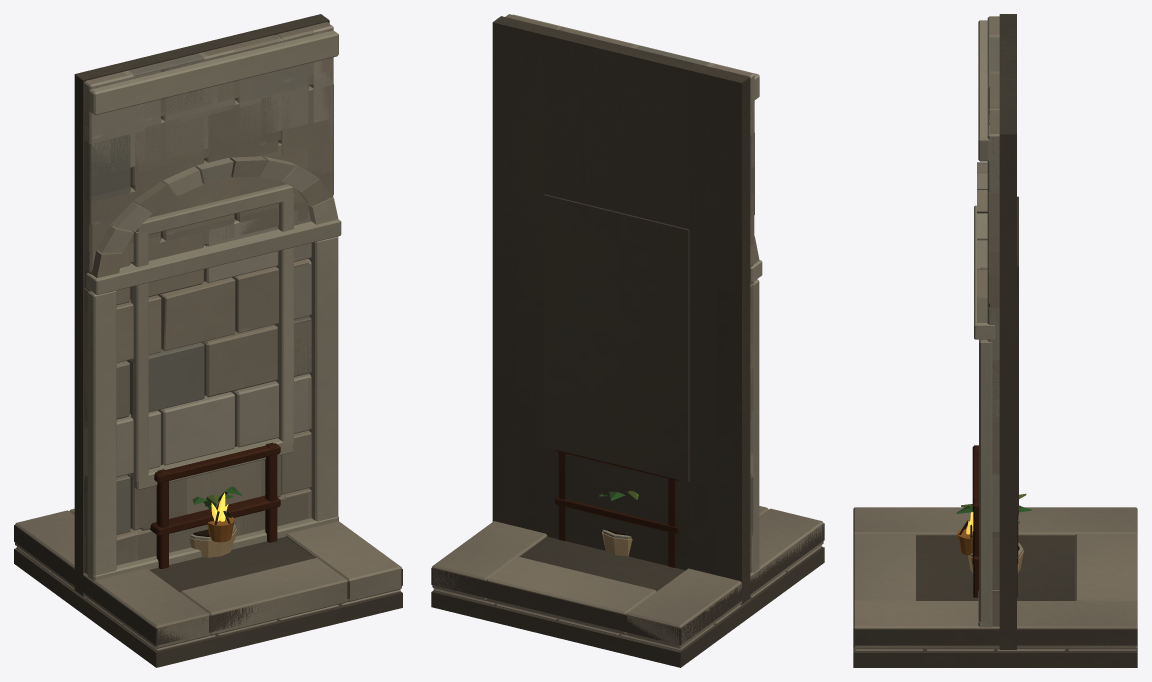
File: stone-dungeon-kit.glb
The picture shows the model from 3 angles, left to right: view 1: azimuth 30°, elevation 25°; view 2: azimuth 150°, elevation 25°; view 3: azimuth 270°, elevation 25°; orthographic projection.
Parts seen in each view (by area): view 1: StoneBay_Visual, StoneDoor_Visual, StoneNicheBay_Visual, StoneSkylight_Visual, StoneFloor_Visual, StoneCeiling_Visual, StoneShelf_Visual, StonePlanter_Visual, StoneTorch_Visual; view 2: StoneBay_Visual, StoneNicheBay_Visual, StoneDoor_Visual, StoneSkylight_Visual, StoneCeiling_Visual, StoneFloor_Visual, StoneShelf_Visual, StonePlanter_Visual; view 3: StoneSkylight_Visual, StoneDoor_Visual, StoneCeiling_Visual, StoneNicheBay_Visual, StoneBay_Visual, StoneFloor_Visual, StoneShelf_Visual, StonePlanter_Visual.
Part boxes in pixels (x1,y1,x2,y2): StoneBay_Visual: [74, 14, 338, 595]; StoneDoor_Visual: [74, 22, 341, 595]; StoneNicheBay_Visual: [75, 14, 333, 595]; StoneSkylight_Visual: [15, 508, 401, 648]; StoneFloor_Visual: [14, 546, 402, 667]; StoneCeiling_Visual: [14, 525, 402, 645]; StoneShelf_Visual: [150, 442, 280, 568]; StonePlanter_Visual: [189, 486, 241, 557]; StoneTorch_Visual: [207, 510, 234, 542]; StoneBay_Visual: [492, 14, 759, 604]; StoneNicheBay_Visual: [492, 18, 754, 580]; StoneDoor_Visual: [492, 14, 762, 604]; StoneSkylight_Visual: [432, 506, 823, 648]; StoneCeiling_Visual: [431, 523, 824, 645]; StoneFloor_Visual: [431, 545, 824, 667]; StoneShelf_Visual: [555, 449, 679, 567]; StonePlanter_Visual: [599, 490, 638, 556]; StoneSkylight_Visual: [853, 507, 1137, 649]; StoneDoor_Visual: [974, 16, 1016, 627]; StoneCeiling_Visual: [853, 535, 1137, 645]; StoneNicheBay_Visual: [980, 14, 1018, 649]; StoneBay_Visual: [978, 14, 1016, 627]; StoneFloor_Visual: [853, 648, 1137, 667]; StoneShelf_Visual: [972, 445, 1018, 597]; StonePlanter_Visual: [956, 493, 1031, 573].
Bounding box in the file's own units: 2 × 4.14 × 2.
Materials: 14 (13 with a texture image).
